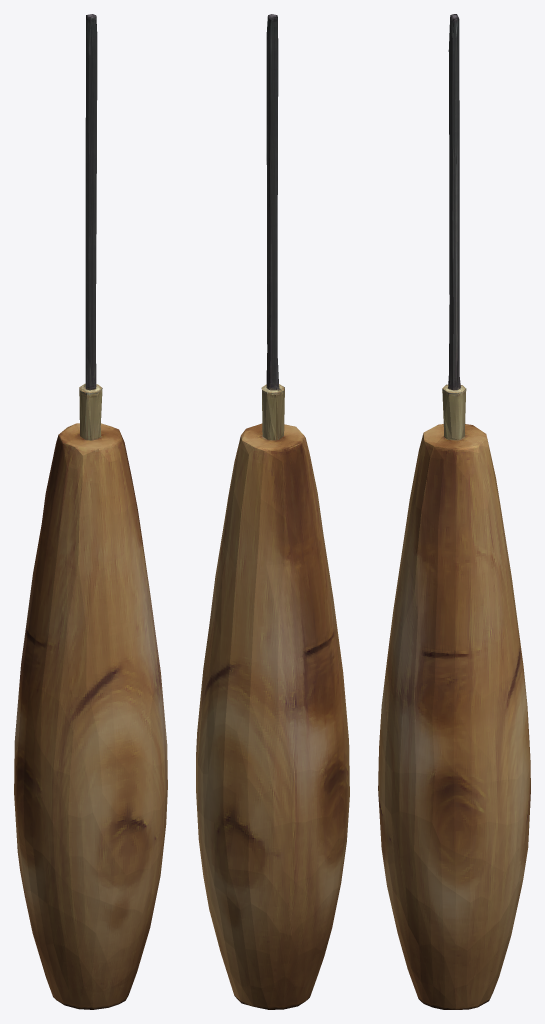
The model's file is wooden-pendulum-rustic.jpeg.glb.
3 views of the same model, side by side, from view 1: azimuth 30°, elevation 25°; view 2: azimuth 150°, elevation 25°; view 3: azimuth 270°, elevation 25° (orthographic).
Parts seen in each view (by area): view 1: world; view 2: world; view 3: world.
Boxes of the visible parts, box(x1,y1,x2,y2) form: world: box(14, 14, 167, 1009); world: box(196, 14, 349, 1009); world: box(378, 14, 530, 1009).
Size of the model in its own units: 0.1428 by 1 by 0.1416.
Materials: 1 (1 with a texture image).
